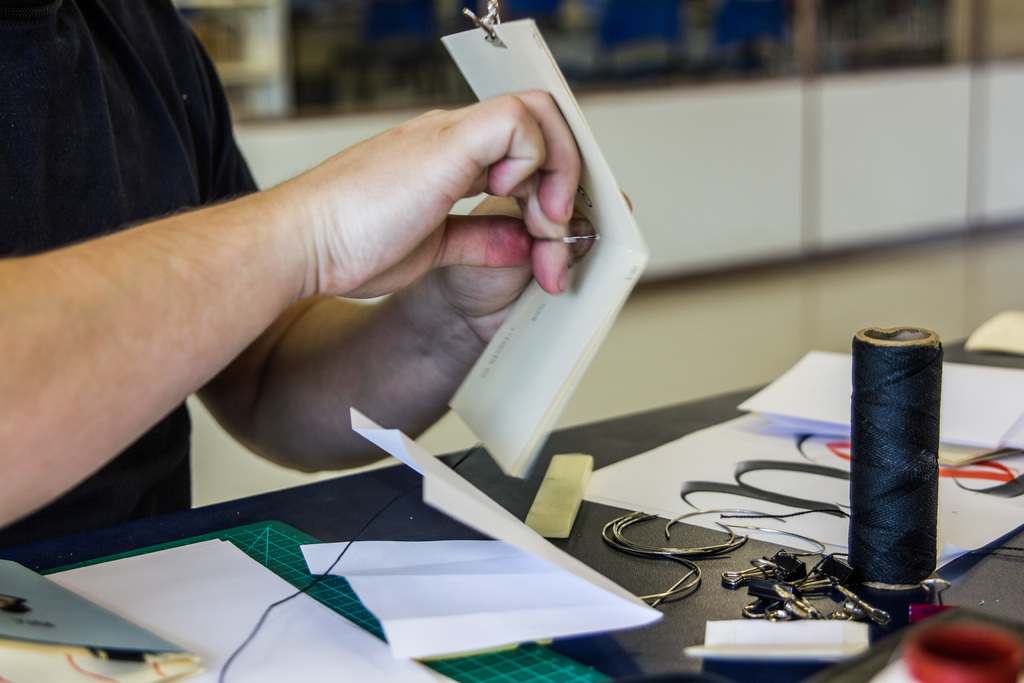Human_hand: (183, 72, 647, 353), (437, 194, 633, 344)
